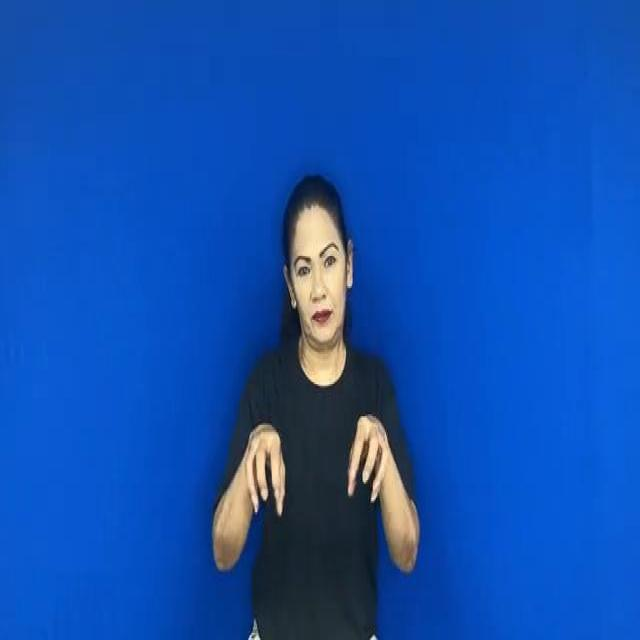egg: (231, 392, 399, 532)
